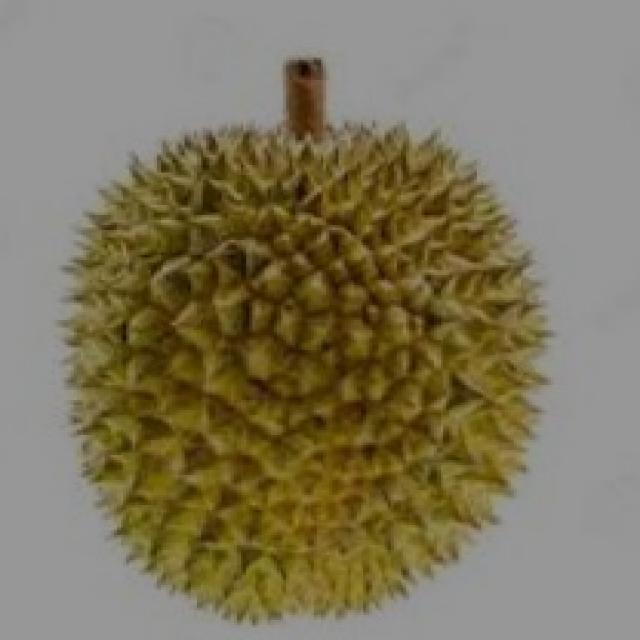fruit: (228, 250, 609, 640), (9, 260, 366, 640)
